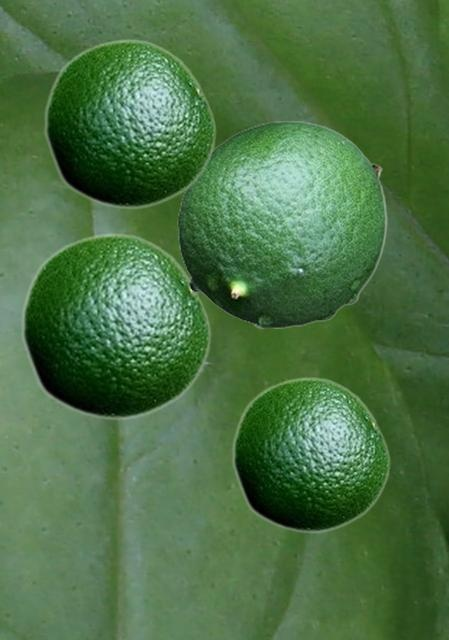calamansi: (177, 120, 386, 327), (20, 232, 211, 420), (43, 38, 216, 209), (231, 376, 390, 533)
